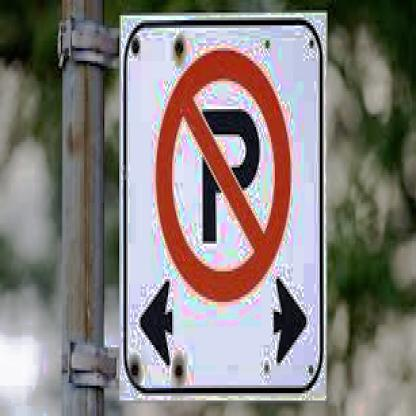No parking: (152, 49, 296, 305)
